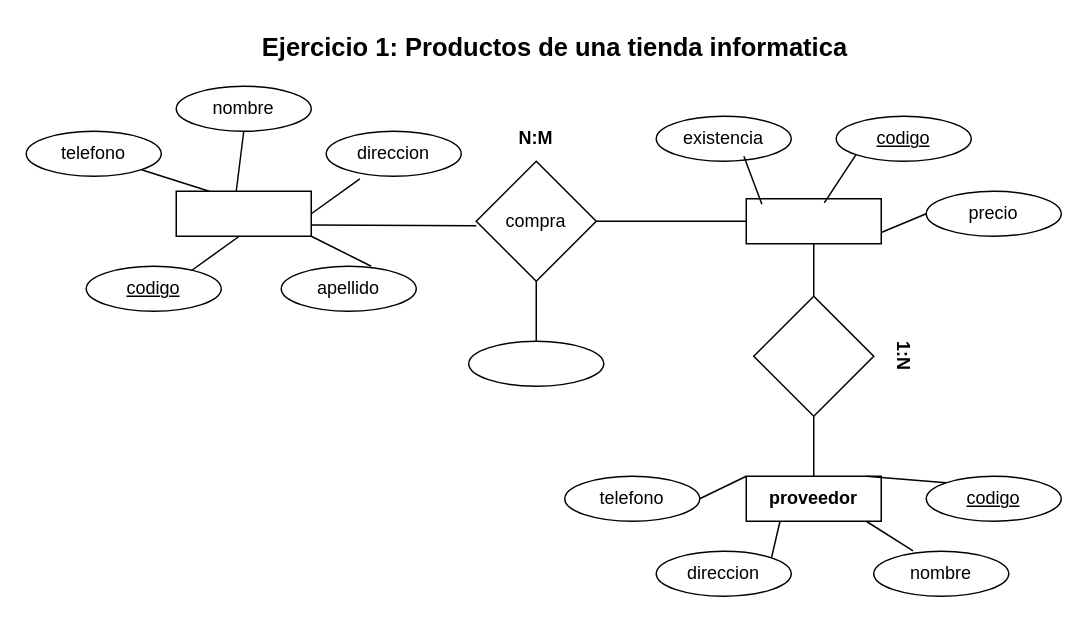
This 1088x623 diagram has some shape labels left out. The centre of each missing label's shape, as x and y in pixels:
"cliente" belongs at (x=243, y=213).
"fecha_compra" belongs at (x=535, y=363).
"producto" belongs at (x=813, y=220).
"suministra" belongs at (x=813, y=355).
